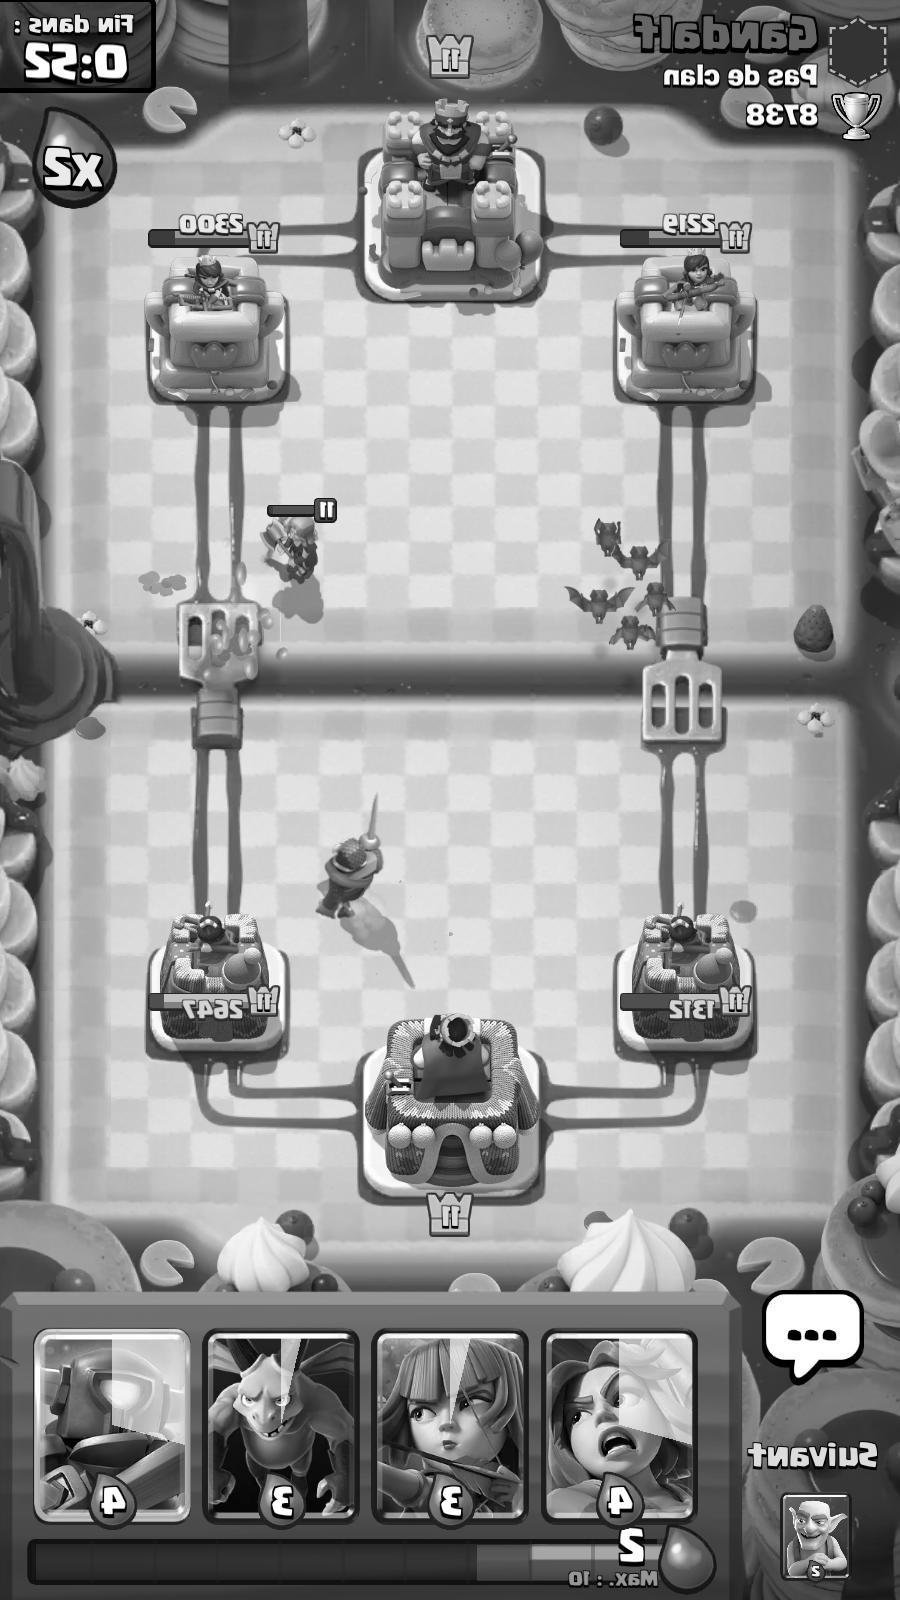bat: (563, 579, 636, 626), (605, 537, 670, 582), (608, 610, 655, 653), (632, 580, 674, 619), (592, 515, 626, 556)
chevalier: (312, 792, 387, 926)
valkyrie: (257, 497, 342, 584)
